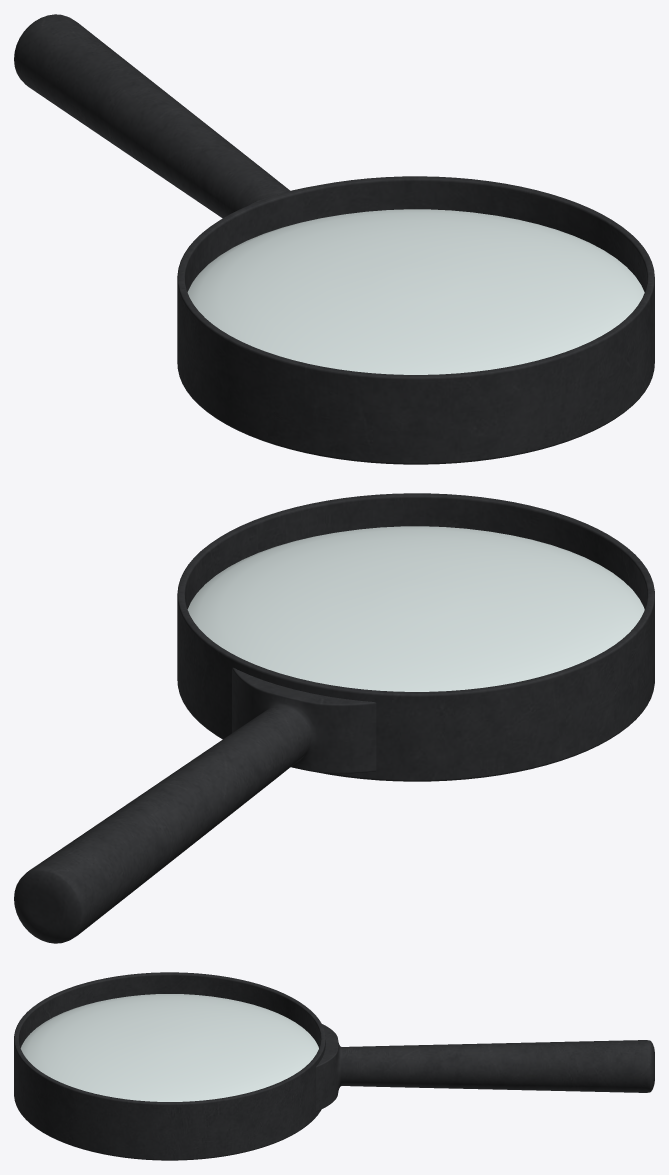
Rendered from magnifying_glass_01.glb.
The picture shows the model from 3 angles, top to bottom: view 1: azimuth 30°, elevation 25°; view 2: azimuth 150°, elevation 25°; view 3: azimuth 270°, elevation 25°; orthographic projection. The views are drawn at different scales.
Visible parts, largest first — view 1: magnifying_glass_01; view 2: magnifying_glass_01; view 3: magnifying_glass_01.
Part boxes in pixels (<box>): magnifying_glass_01: <box>14,14,654,464</box>; magnifying_glass_01: <box>14,493,654,943</box>; magnifying_glass_01: <box>14,972,654,1160</box>.
Bounding box in the file's own units: 0.1321 × 0.0267 × 0.2716.
Materials: 2 (1 with a texture image).
